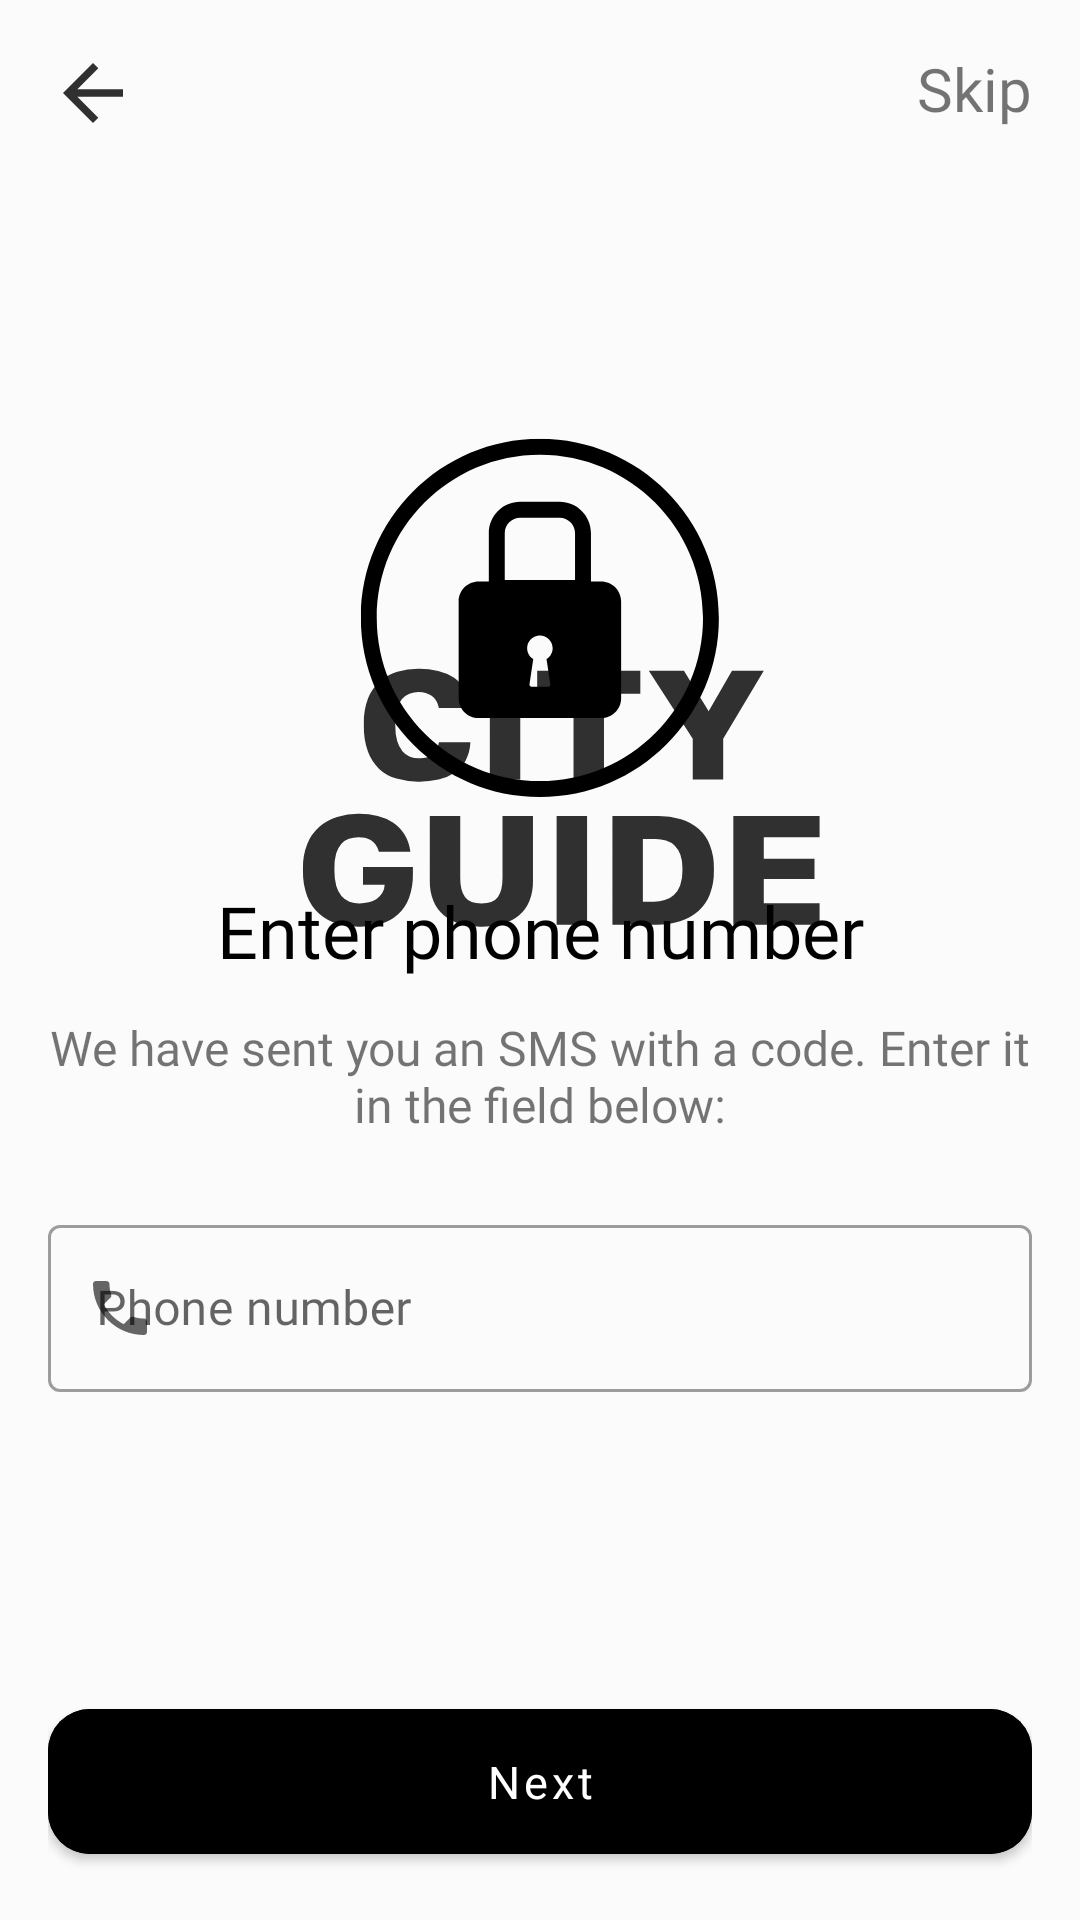

Locate icon controls on the screen. Image size 1080x1920, boxes as [x1=x1, y1=y1, x2=x2, y2=y2].
back: [x1=63, y1=63, x2=123, y2=123]
